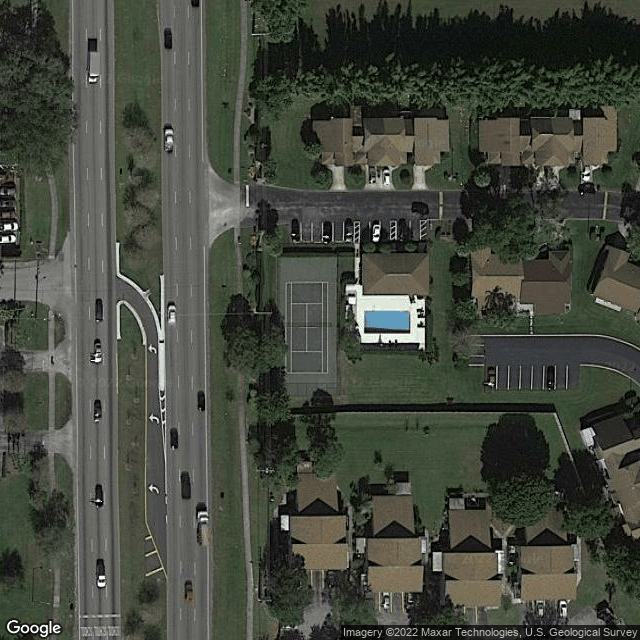Court: (283, 280, 330, 375)
